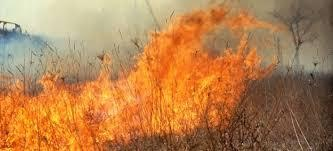fire: (0, 0, 286, 146)
